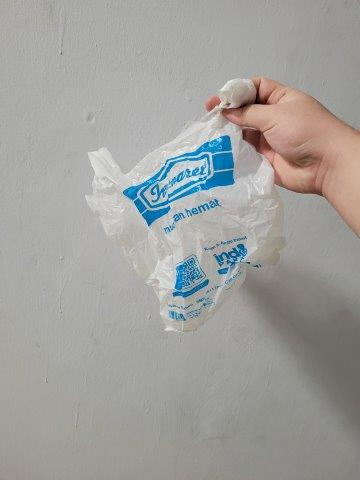plastik: (87, 78, 288, 335)
